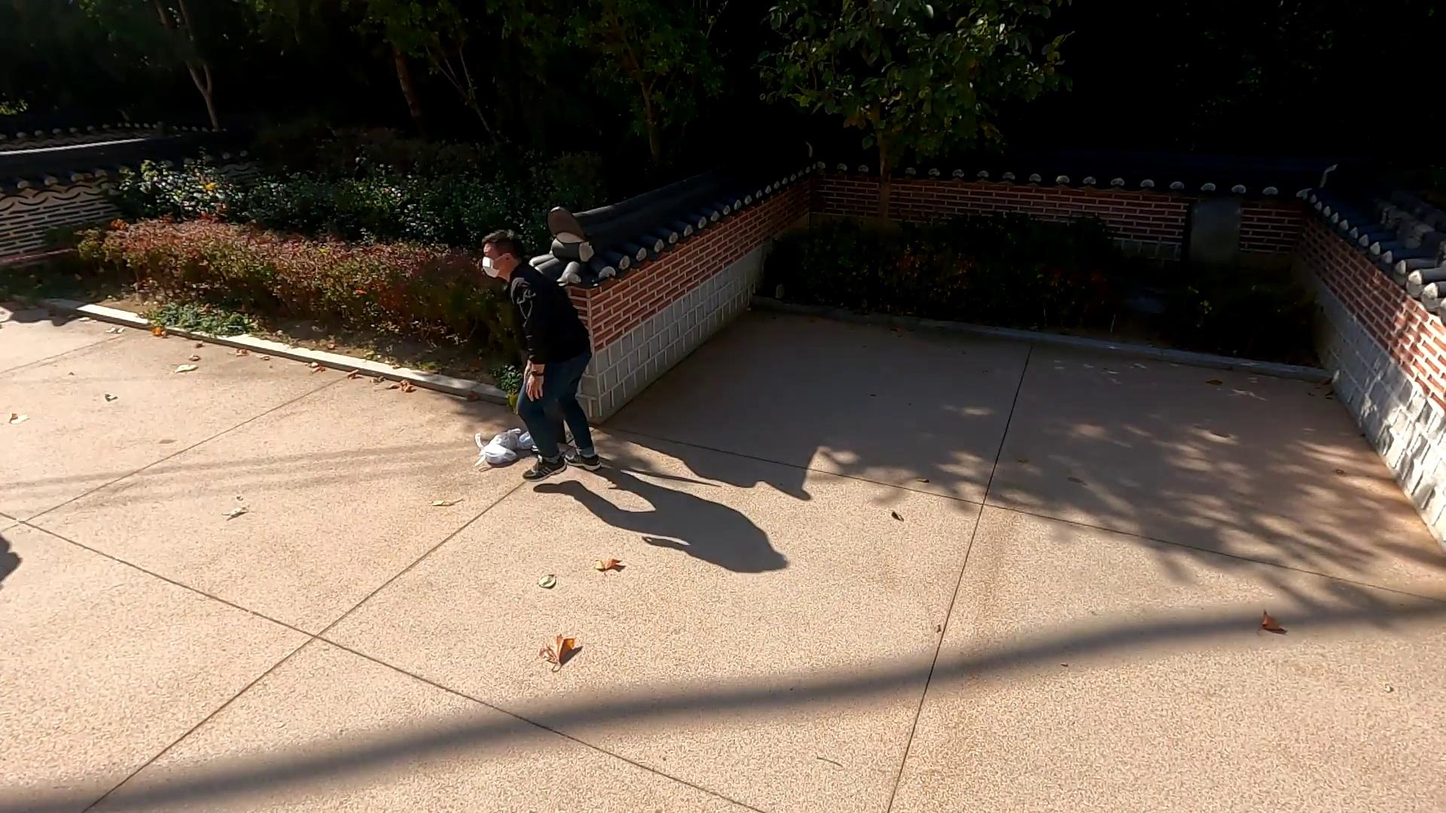person: (474, 222, 606, 482)
trash: (469, 434, 521, 465), (482, 424, 523, 454), (515, 423, 555, 453)
